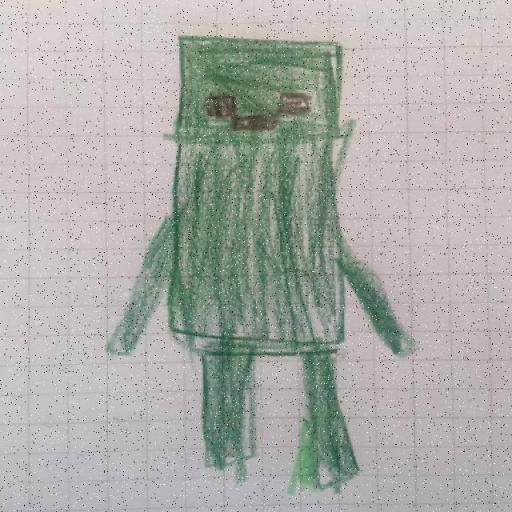person: (67, 28, 423, 507)
